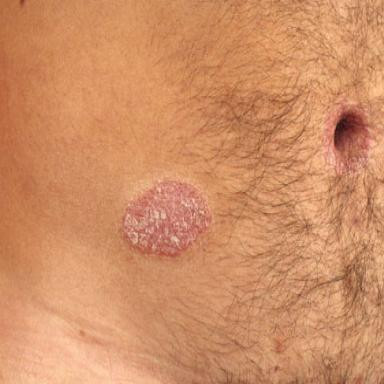Psoriasis: (122, 179, 212, 257)
